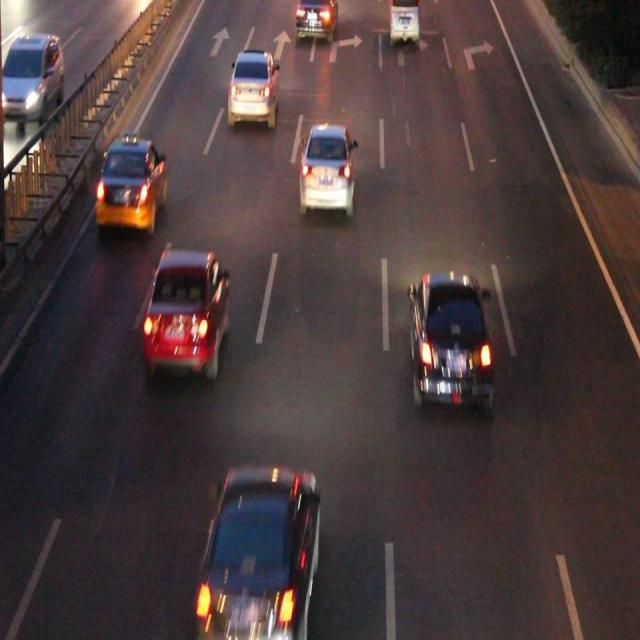car: (196, 472, 316, 623), (408, 280, 490, 404), (145, 256, 227, 370), (99, 137, 165, 224), (300, 126, 352, 210), (229, 51, 277, 122), (296, 2, 336, 34)
truck: (390, 1, 418, 43)
